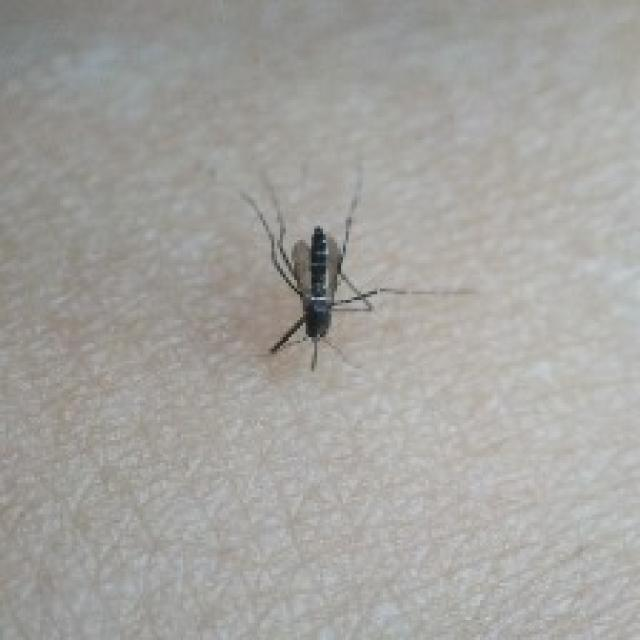aedes: (237, 166, 474, 371)
